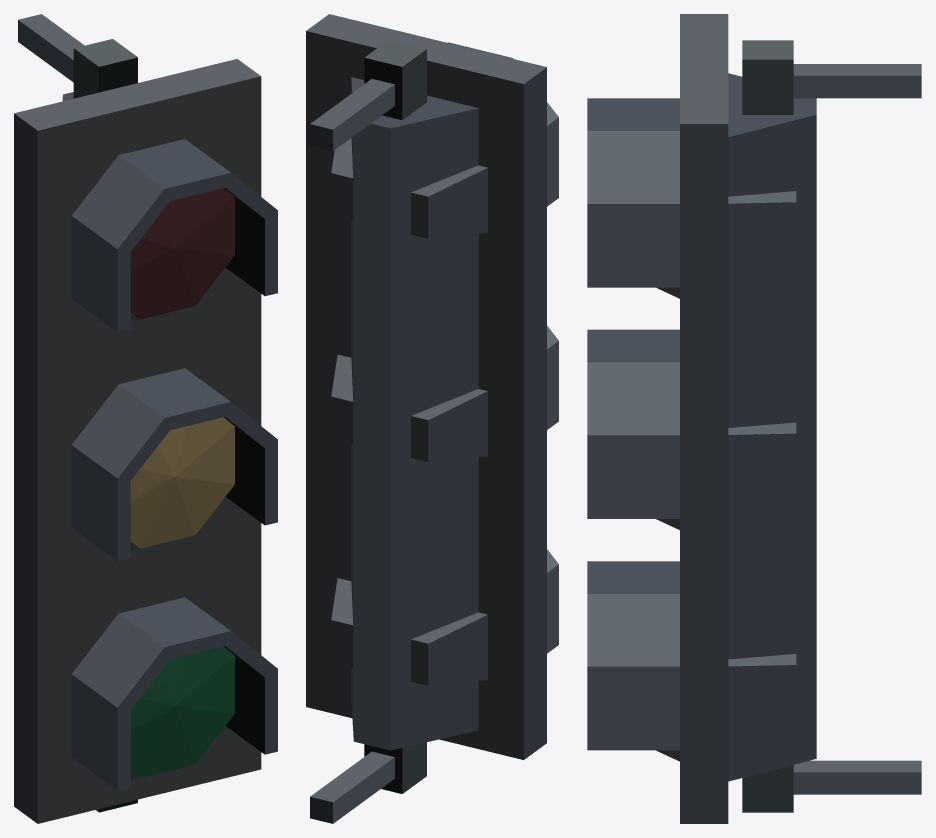
Rendered from TB_CITY_Prop_TrafficLight_A_Black.FBX.
3 views of the same model, side by side, from view 1: azimuth 30°, elevation 25°; view 2: azimuth 150°, elevation 25°; view 3: azimuth 270°, elevation 25° (orthographic). The views are drawn at different scales.
Visible parts, largest first — view 1: TB_CITY_Prop_TrafficLight_A_Black; view 2: TB_CITY_Prop_TrafficLight_A_Black; view 3: TB_CITY_Prop_TrafficLight_A_Black.
Boxes of the visible parts, bbox=[...] form: TB_CITY_Prop_TrafficLight_A_Black: bbox=[14, 14, 277, 823]; TB_CITY_Prop_TrafficLight_A_Black: bbox=[306, 14, 558, 823]; TB_CITY_Prop_TrafficLight_A_Black: bbox=[587, 14, 921, 823].
Size of the model in its own units: 1.03 by 3.27 by 1.32.
